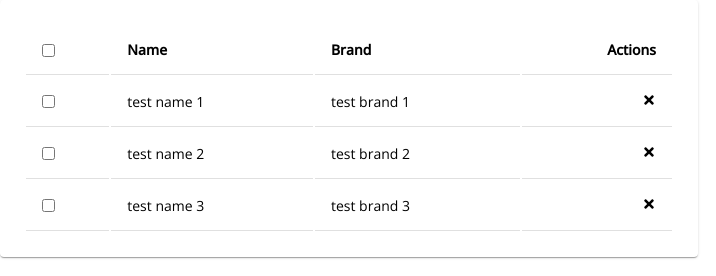
Test case: <GearTable /> › should toggle all item selection when the select-all checkbox is checked
The width and height of the screenshot is (716, 276).
Click the checkbox in the row of "Actions" at (48,50), box [42,44,55,56]
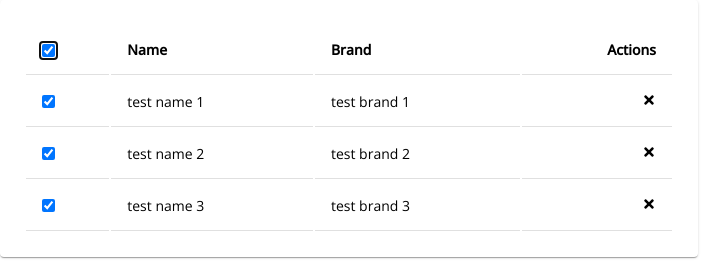
Now the checkbox in the row of "Actions" is checked
Now the checkbox next to "test name 1" is checked, box [42,95,55,108]
Now the checkbox next to "test name 2" is checked, box [42,147,55,160]
Click the checkbox in the row of "Actions" at (48,50), box [42,44,55,56]
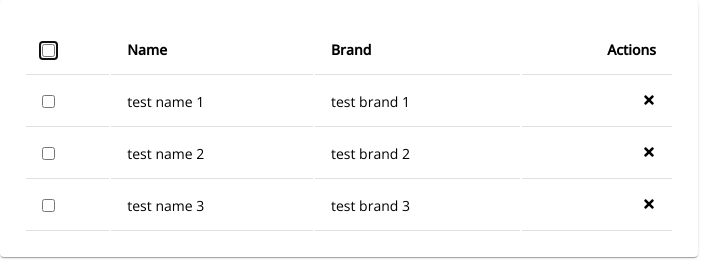
Now the checkbox in the row of "Actions" is not checked, box [42,44,55,56]
Now the checkbox next to "test name 1" is not checked, box [42,95,55,108]
Now the checkbox next to "test name 2" is not checked, box [42,147,55,160]
